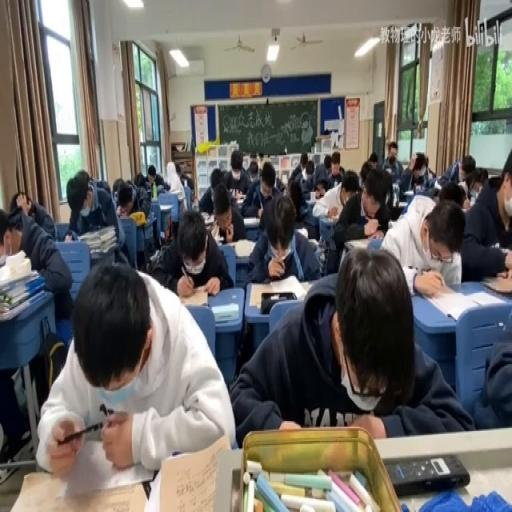calculator: (6, 456, 150, 512), (152, 432, 232, 512), (418, 282, 498, 322), (247, 276, 304, 307), (120, 212, 156, 259), (482, 253, 510, 296), (210, 300, 238, 322), (180, 287, 209, 307), (232, 236, 255, 256), (346, 238, 372, 250), (300, 279, 314, 294), (294, 226, 308, 239), (498, 244, 511, 258), (243, 214, 261, 224), (201, 212, 214, 225), (232, 193, 246, 205), (210, 222, 219, 240), (392, 184, 399, 206), (221, 240, 234, 250), (469, 188, 478, 202), (307, 192, 318, 202), (432, 179, 442, 189), (159, 204, 173, 210), (398, 199, 408, 206), (404, 189, 414, 196)
paper: (229, 253, 469, 442), (38, 259, 232, 475), (0, 198, 71, 331), (381, 189, 464, 287), (151, 205, 231, 296), (245, 189, 322, 283), (458, 148, 512, 279), (65, 168, 128, 267), (331, 166, 392, 262), (471, 318, 512, 430), (399, 148, 434, 196), (196, 166, 226, 215), (222, 148, 249, 196), (311, 184, 346, 218), (435, 153, 467, 185), (311, 154, 336, 192), (380, 140, 402, 180), (436, 182, 466, 208), (286, 176, 304, 218), (145, 164, 168, 192), (10, 189, 34, 215), (297, 158, 315, 192), (340, 179, 358, 205), (176, 162, 192, 188), (358, 161, 372, 186), (246, 158, 260, 183), (261, 164, 275, 189), (112, 176, 125, 200), (94, 178, 110, 196), (477, 166, 489, 184), (134, 172, 146, 189), (274, 172, 284, 192), (366, 152, 378, 168), (462, 164, 474, 180), (488, 175, 502, 188), (331, 155, 340, 171), (422, 155, 429, 171), (338, 164, 344, 180), (323, 163, 330, 175)
person: (384, 452, 470, 494)
